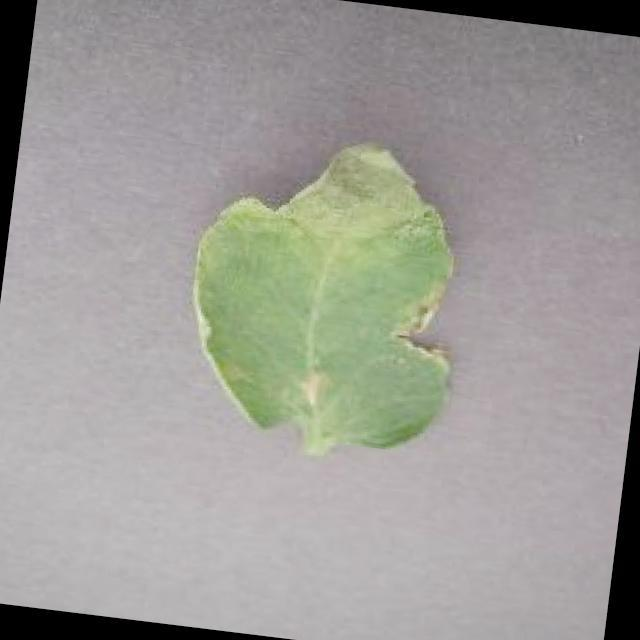Tomato late blight leaf: (176, 120, 482, 462)
